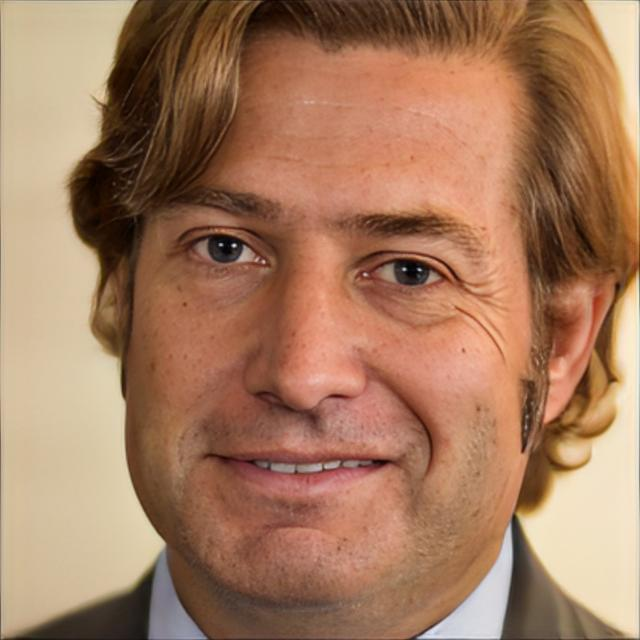content: (119, 31, 539, 610)
